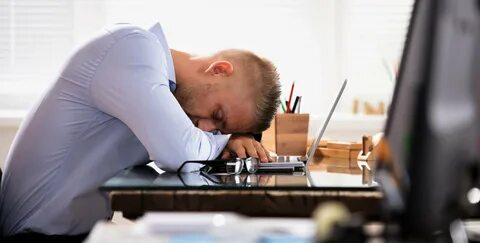sleep: (1, 20, 281, 242)
